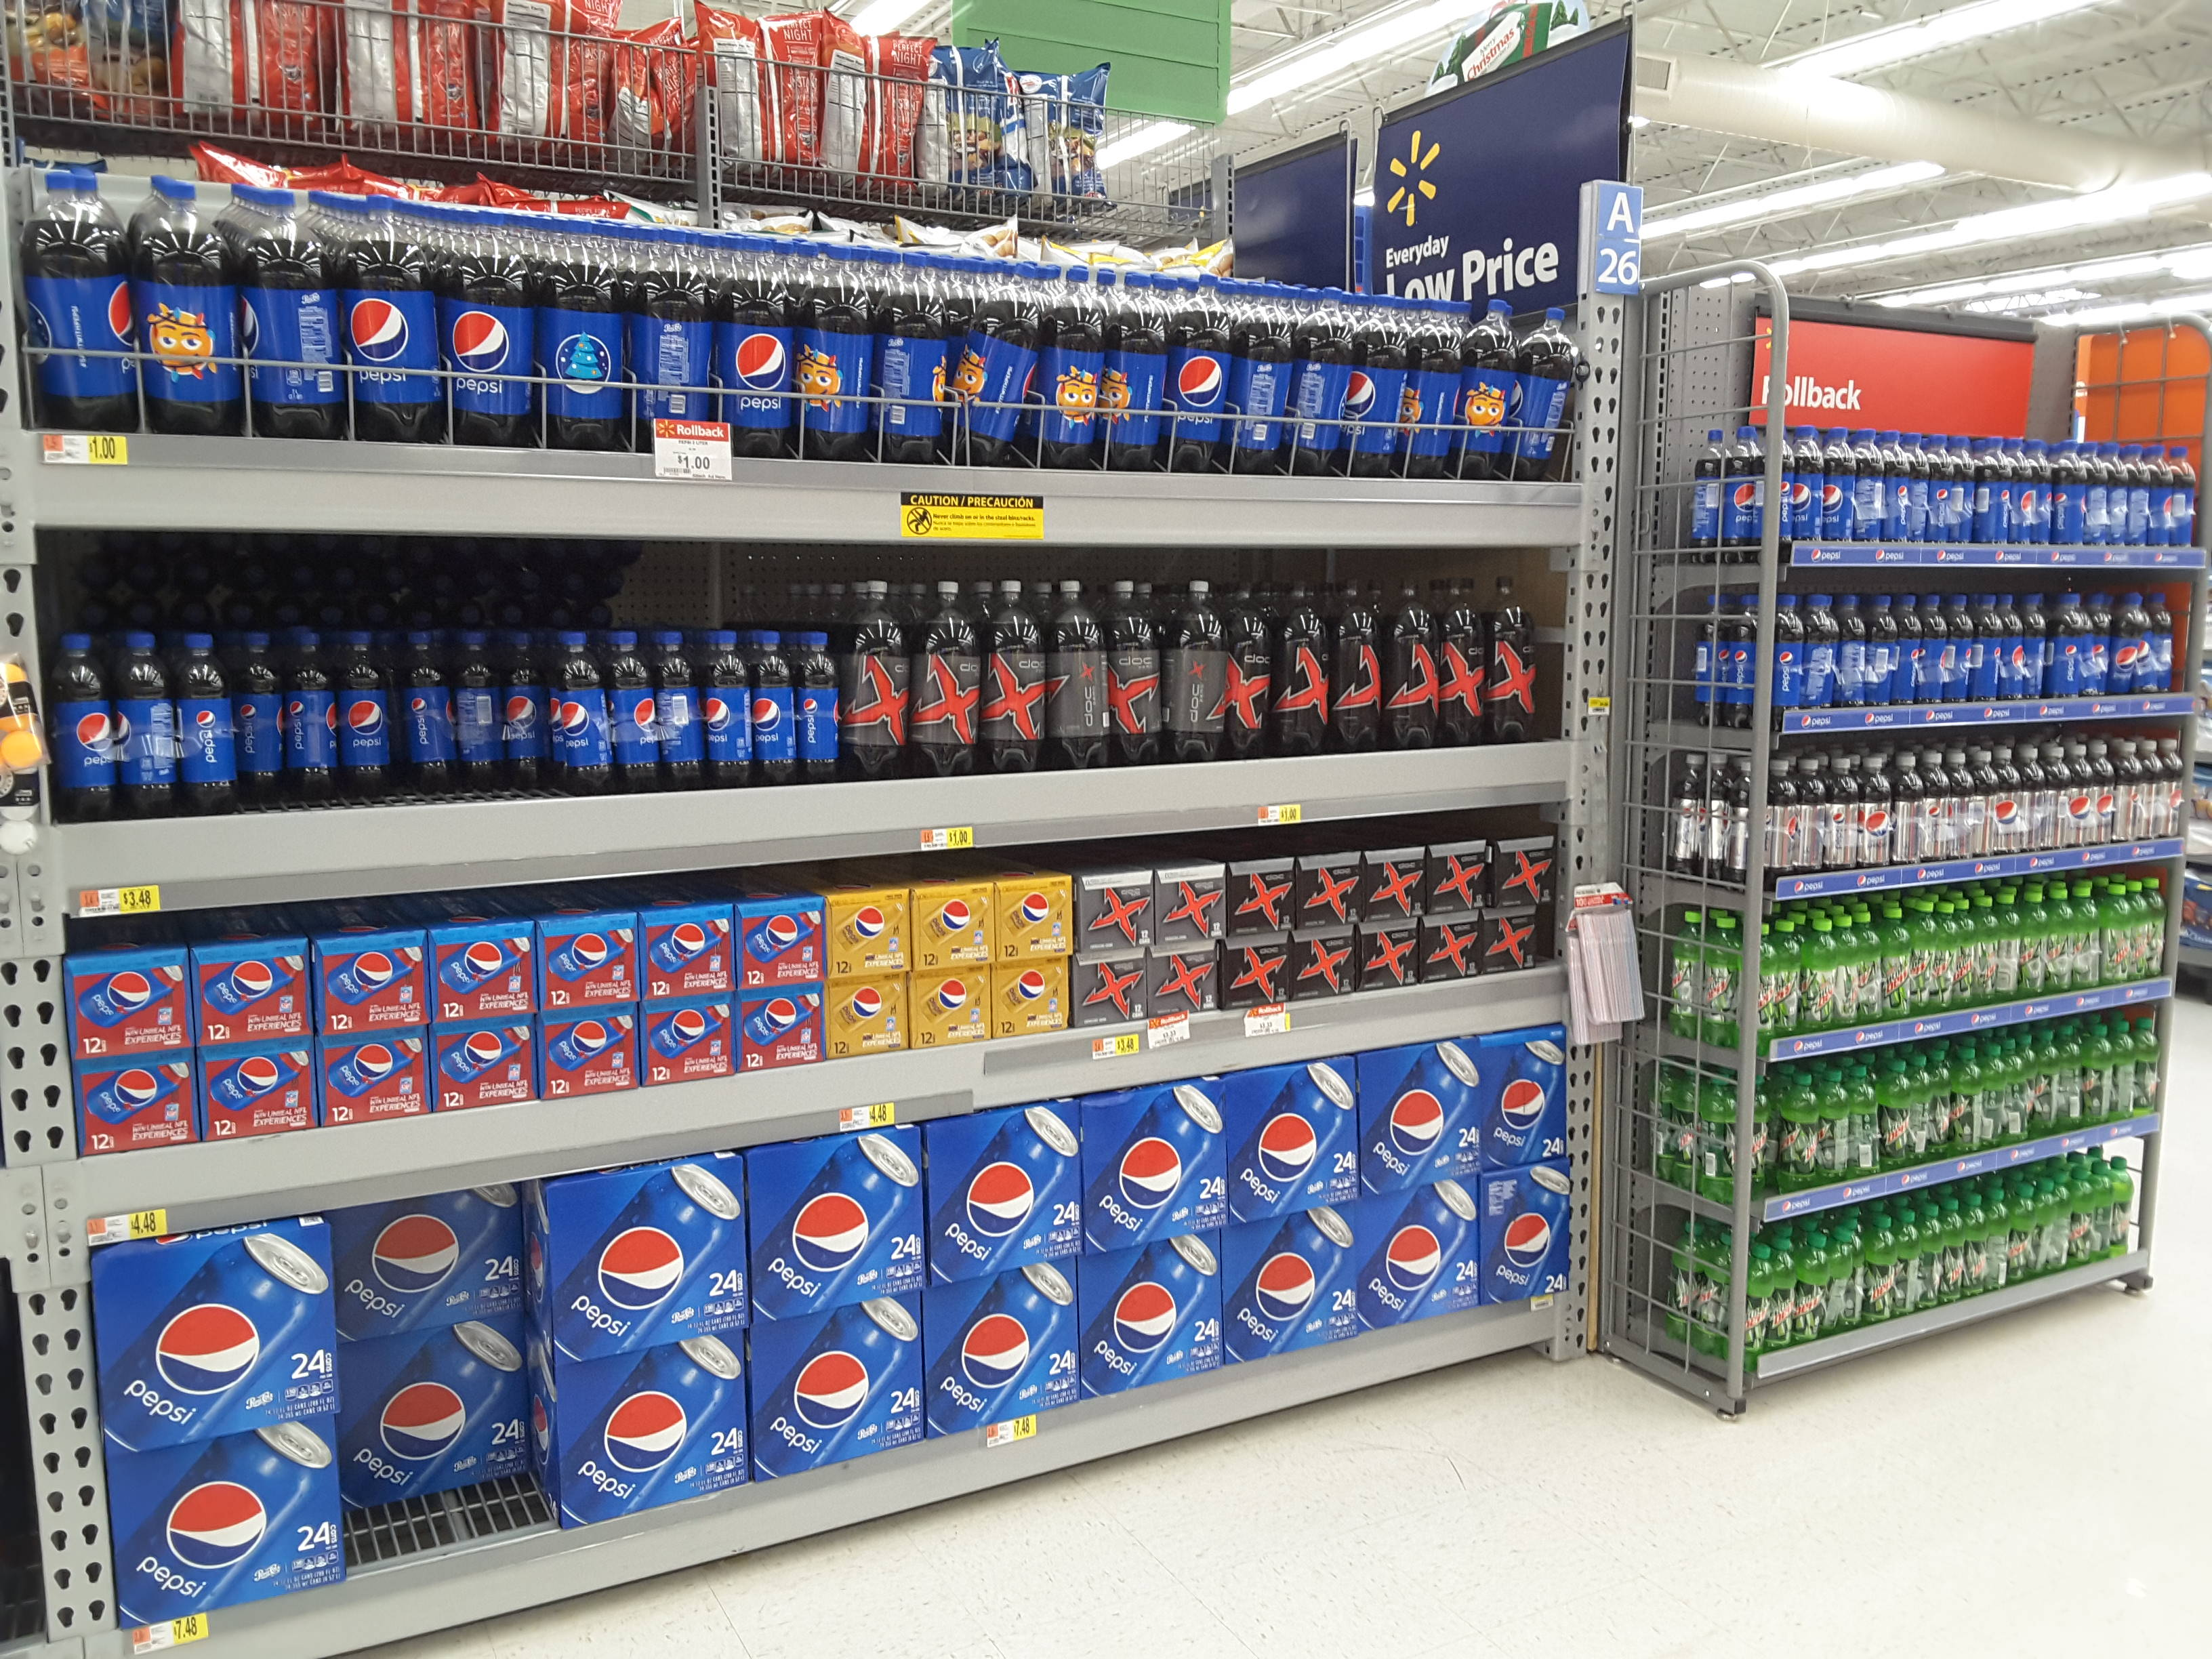Misplacement: (348, 1176, 550, 1588), (246, 624, 542, 819)
